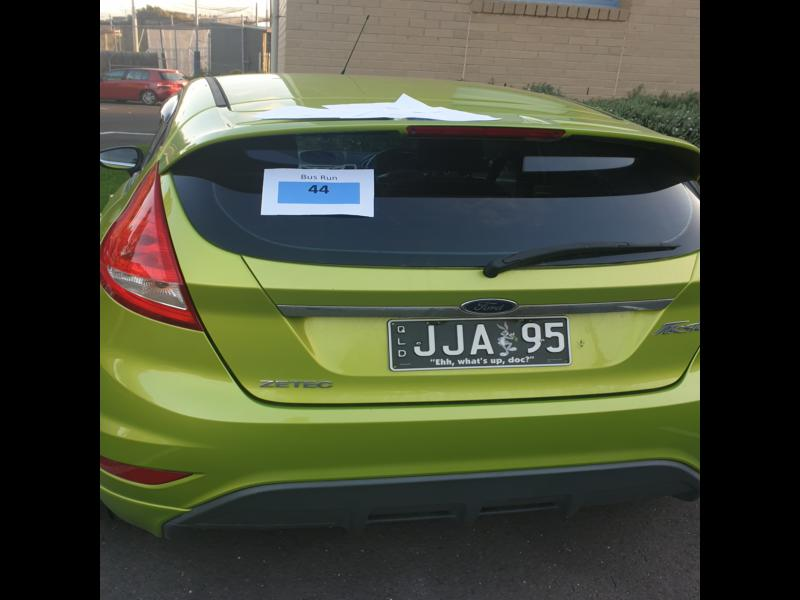BusRun: (276, 178, 363, 204)
PlateNo: (389, 316, 570, 367)
